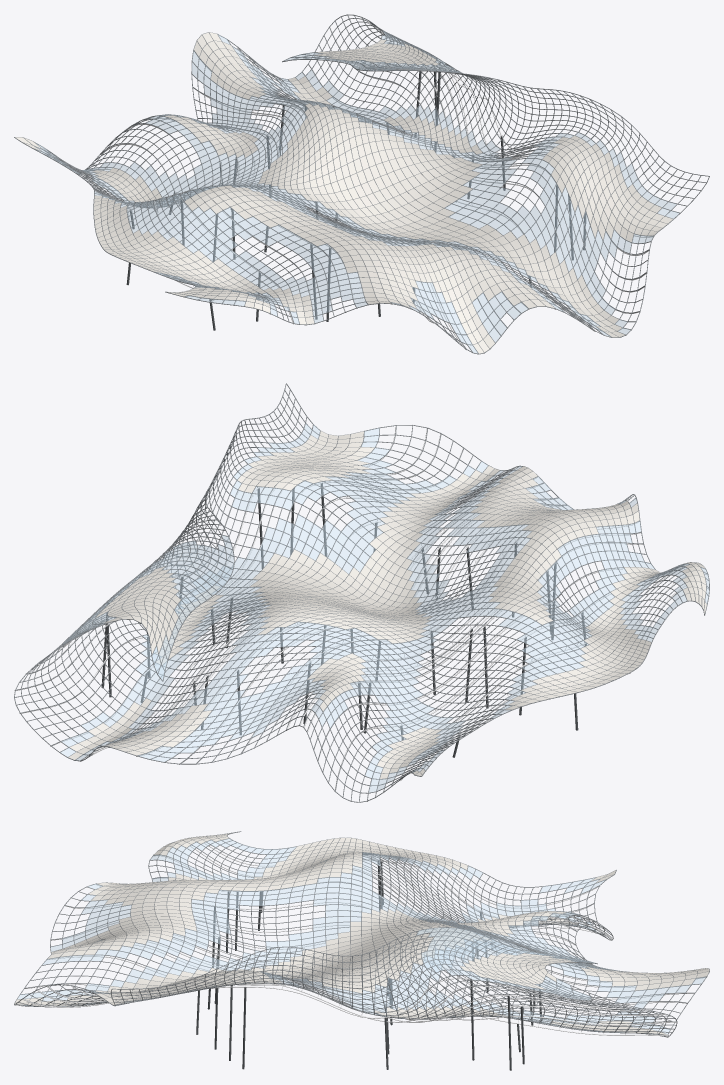
File: pavilion.glb
The picture shows the model from 3 angles, top to bottom: view 1: azimuth 30°, elevation 25°; view 2: azimuth 150°, elevation 25°; view 3: azimuth 270°, elevation 25°; orthographic projection. The views are drawn at different scales.
Parts seen in each view (by area): view 1: D1_막힘, A_파이프, D2_반투명, C_리브, C_다리; view 2: A_파이프, D2_반투명, D1_막힘, C_리브, C_다리; view 3: A_파이프, D1_막힘, D2_반투명, C_리브, C_다리.
Part boxes in pixels (bbox=[...]): D1_막힘: bbox=[15, 32, 672, 353]; A_파이프: bbox=[14, 14, 709, 354]; D2_반투명: bbox=[36, 31, 679, 353]; C_리브: bbox=[42, 15, 654, 353]; C_다리: bbox=[126, 68, 586, 330]; A_파이프: bbox=[14, 383, 709, 802]; D2_반투명: bbox=[61, 424, 709, 792]; D1_막힘: bbox=[68, 431, 706, 778]; C_리브: bbox=[14, 426, 708, 801]; C_다리: bbox=[101, 483, 630, 757]; A_파이프: bbox=[14, 831, 709, 1037]; D1_막힘: bbox=[15, 833, 709, 1036]; D2_반투명: bbox=[17, 838, 705, 1034]; C_리브: bbox=[14, 843, 705, 1036]; C_다리: bbox=[196, 860, 541, 1070].
Bounding box in the file's own units: 14.08 × 4.02 × 20.16.
